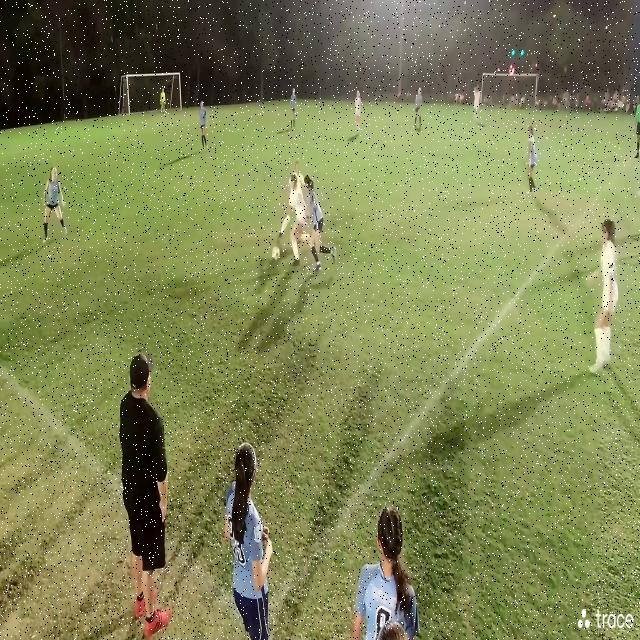Ball: (271, 245, 281, 263)
GoalKeeper: (160, 88, 167, 115)
TEAM 1: (222, 432, 286, 640), (303, 171, 338, 273), (44, 168, 68, 240), (525, 124, 539, 197), (198, 100, 210, 152), (414, 87, 424, 135), (288, 85, 298, 132)
TEAM 2: (594, 221, 622, 375), (290, 175, 307, 264), (472, 80, 483, 128), (354, 88, 364, 137)
